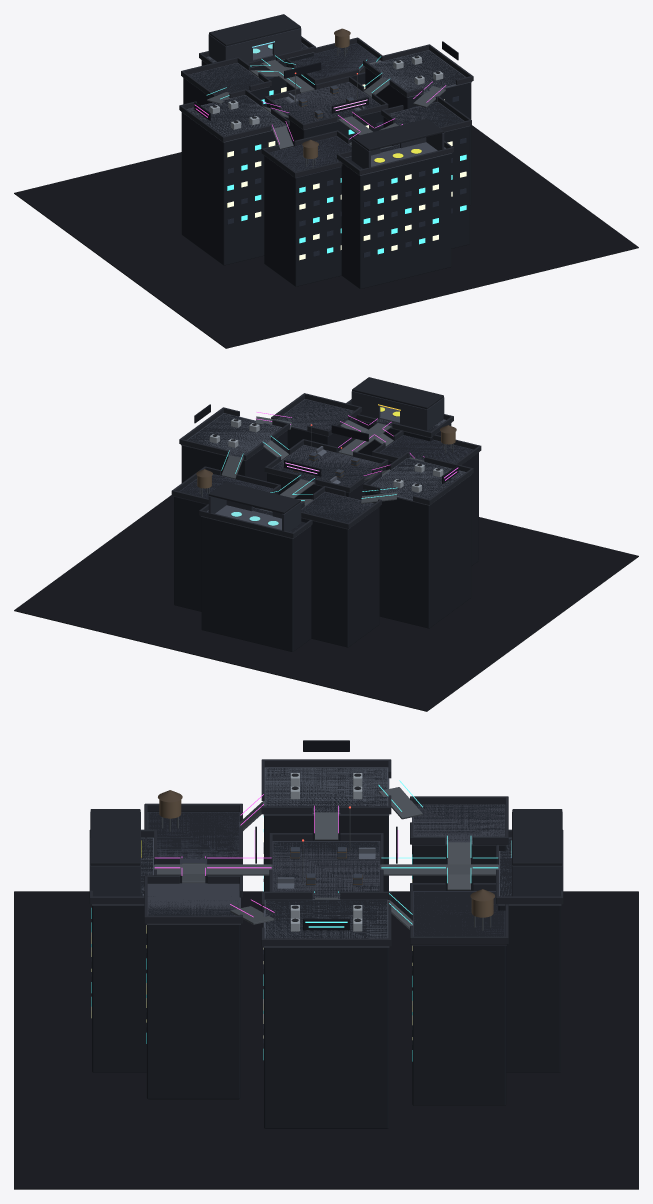
The model's file is neon_rooftops.glb.
3 views of the same model, one above another, from view 1: azimuth 30°, elevation 25°; view 2: azimuth 150°, elevation 25°; view 3: azimuth 270°, elevation 25° (orthographic). The views are drawn at different scales.
Parts seen in each view (by area): view 1: street_far_below, tower_7, tower_1, tower_3, tower_2, tower_5, tower_0, tower_6, roof_0, roof_2, tower_4, roof_1 (+11 smaller); view 2: street_far_below, tower_1, tower_8, tower_6, tower_2, tower_4, tower_0, tower_3, tower_5, roof_1, roof_2, roof_0 (+12 smaller); view 3: street_far_below, tower_2, tower_4, tower_5, tower_8, tower_7, tower_1, roof_1, tower_6, tower_0, roof_0, tower_3 (+18 smaller).
Boxes of the visible parts, bbox=[...] form: street_far_below: bbox=[14, 125, 638, 348]; tower_7: bbox=[341, 145, 451, 288]; tower_1: bbox=[181, 95, 287, 265]; tower_3: bbox=[264, 136, 351, 286]; tower_2: bbox=[365, 50, 471, 205]; tower_5: bbox=[383, 102, 469, 248]; tower_0: bbox=[267, 82, 383, 147]; tower_6: bbox=[183, 63, 269, 107]; roof_0: bbox=[267, 82, 380, 130]; roof_2: bbox=[365, 50, 471, 97]; tower_4: bbox=[286, 43, 377, 93]; roof_1: bbox=[181, 95, 287, 142]; street_far_below: bbox=[14, 495, 638, 711]; tower_1: bbox=[365, 458, 471, 628]; tower_8: bbox=[201, 508, 311, 651]; tower_6: bbox=[301, 492, 379, 647]; tower_2: bbox=[181, 413, 287, 482]; tower_4: bbox=[174, 474, 278, 611]; tower_0: bbox=[267, 445, 385, 499]; tower_3: bbox=[380, 435, 478, 565]; tower_5: bbox=[278, 399, 357, 456]; roof_1: bbox=[364, 458, 471, 505]; roof_2: bbox=[181, 413, 287, 460]; roof_0: bbox=[266, 445, 385, 493]; street_far_below: bbox=[14, 891, 638, 1189]; tower_2: bbox=[264, 900, 388, 1128]; tower_4: bbox=[412, 891, 506, 1105]; tower_5: bbox=[146, 900, 240, 1099]; tower_8: bbox=[498, 838, 560, 1072]; tower_7: bbox=[92, 838, 152, 1072]; tower_1: bbox=[264, 768, 388, 891]; roof_1: bbox=[263, 767, 389, 815]; tower_6: bbox=[412, 804, 506, 890]; tower_0: bbox=[273, 841, 379, 898]; roof_0: bbox=[271, 841, 381, 899]; tower_3: bbox=[148, 812, 238, 883].
Size of the model in its own units: 90 by 30.85 by 80.
